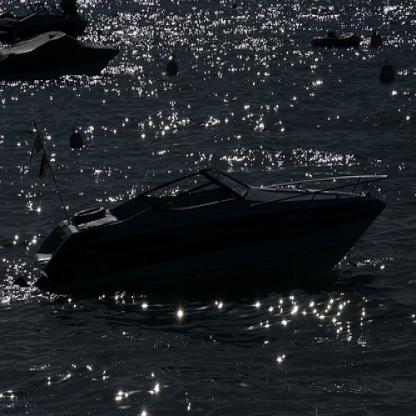boat: (24, 166, 390, 300), (0, 30, 120, 81), (0, 0, 88, 42), (312, 29, 355, 46)
